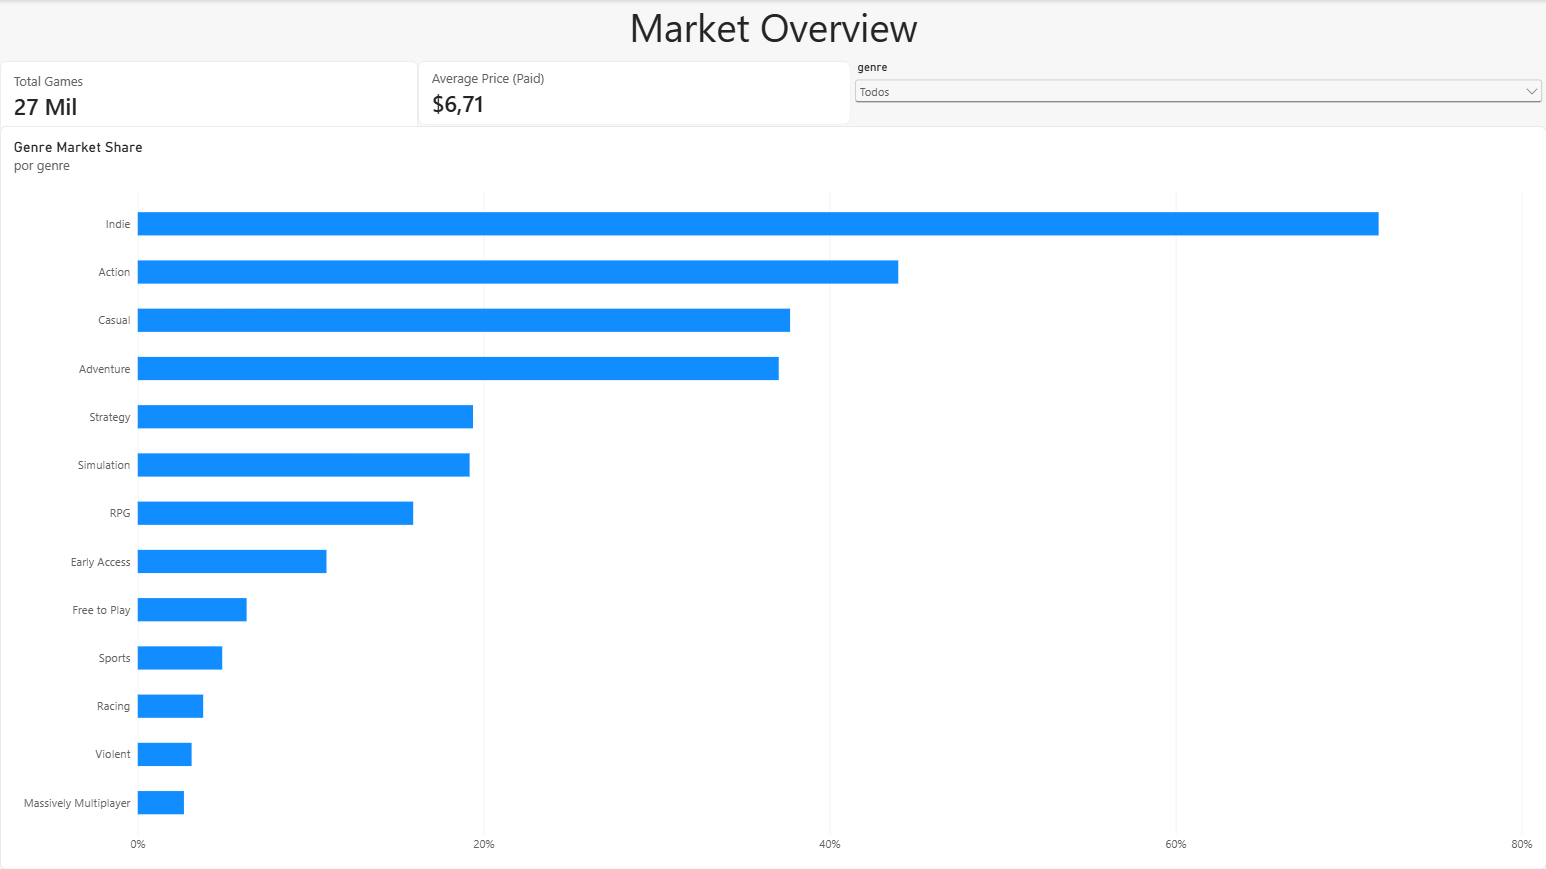

The dashboard page shown, as its layout file describes it:
{"tool":"powerbi","page":{"name":"Página 1","canvas":[1920,1080],"ordinal":0},"visuals":[{"type":"cardVisual","fields":{"Data":["fact_games.Average Price (Paid)"]},"box":[519.4,76.3,537.2,79.5],"z":0},{"type":"cardVisual","fields":{"Data":["fact_games.Total Games"]},"box":[0,76.3,519.4,87.6],"z":1000},{"type":"barChart","fields":{"Category":["game_genres.genre"],"Y":["fact_games.Genre Market Share"]},"box":[0,155.8,1920,923.5],"z":2000},{"type":"slicer","fields":{"Values":["game_genres.genre"]},"box":[1056.6,76.3,863.4,79.5],"z":3000},{"type":"textbox","box":[0,0,1920,76.3],"z":3001}]}

Visuals, with their boxes in screenshot pixels (x1, y1, x2, y2), scaled from the page's 1920x1080 canvas onto the 1546x869 screenshot:
cardVisual - fact_games.Average Price (Paid): {"x1": 418, "y1": 61, "x2": 851, "y2": 125}
cardVisual - fact_games.Total Games: {"x1": 0, "y1": 61, "x2": 418, "y2": 132}
barChart - game_genres.genre x fact_games.Genre Market Share: {"x1": 0, "y1": 125, "x2": 1545, "y2": 868}
slicer - game_genres.genre: {"x1": 851, "y1": 61, "x2": 1545, "y2": 125}
textbox: {"x1": 0, "y1": 0, "x2": 1545, "y2": 61}
